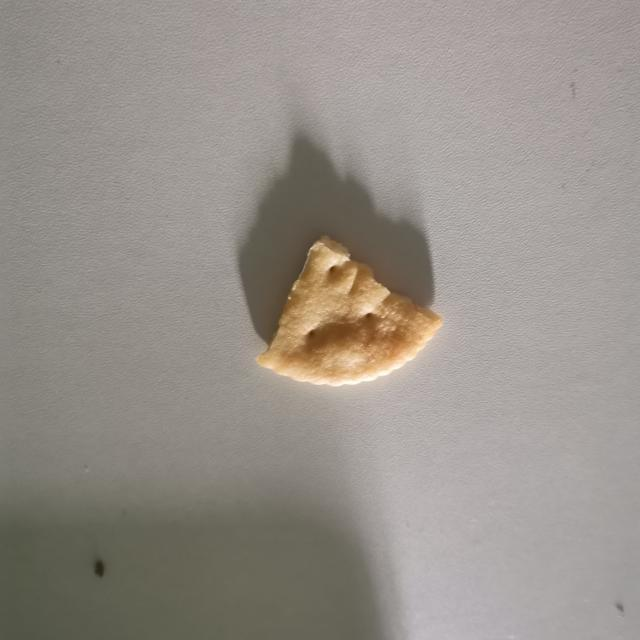Broken: (255, 233, 443, 387)
